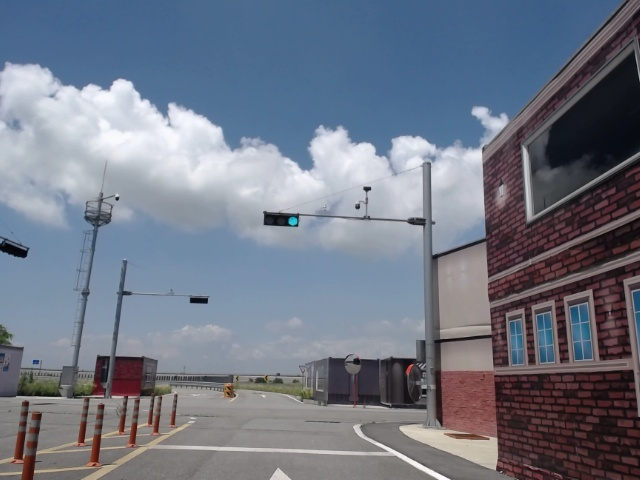green_3: (262, 210, 301, 228)
